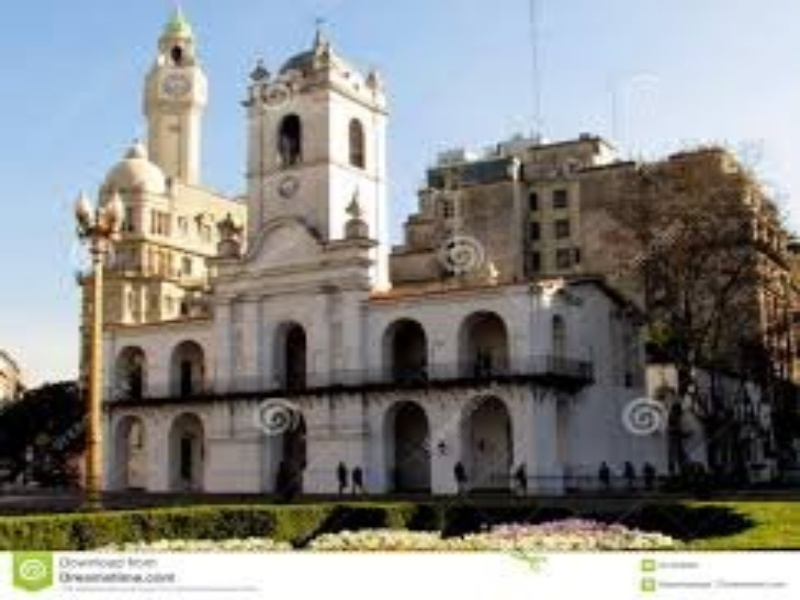cabildo: (97, 17, 600, 498)
